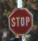stopsign: (8, 7, 34, 35)
